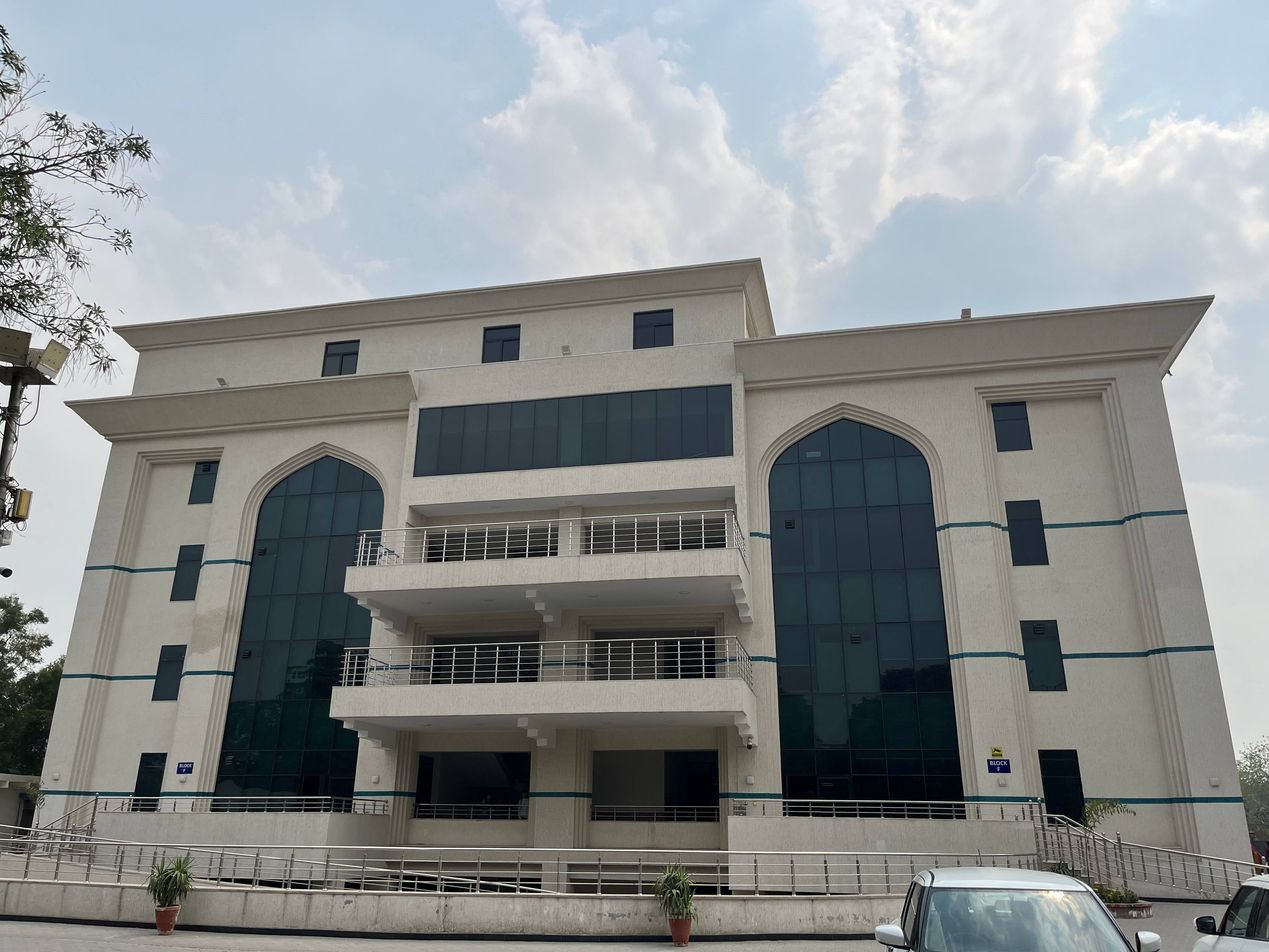Block F: (26, 256, 1268, 908)
